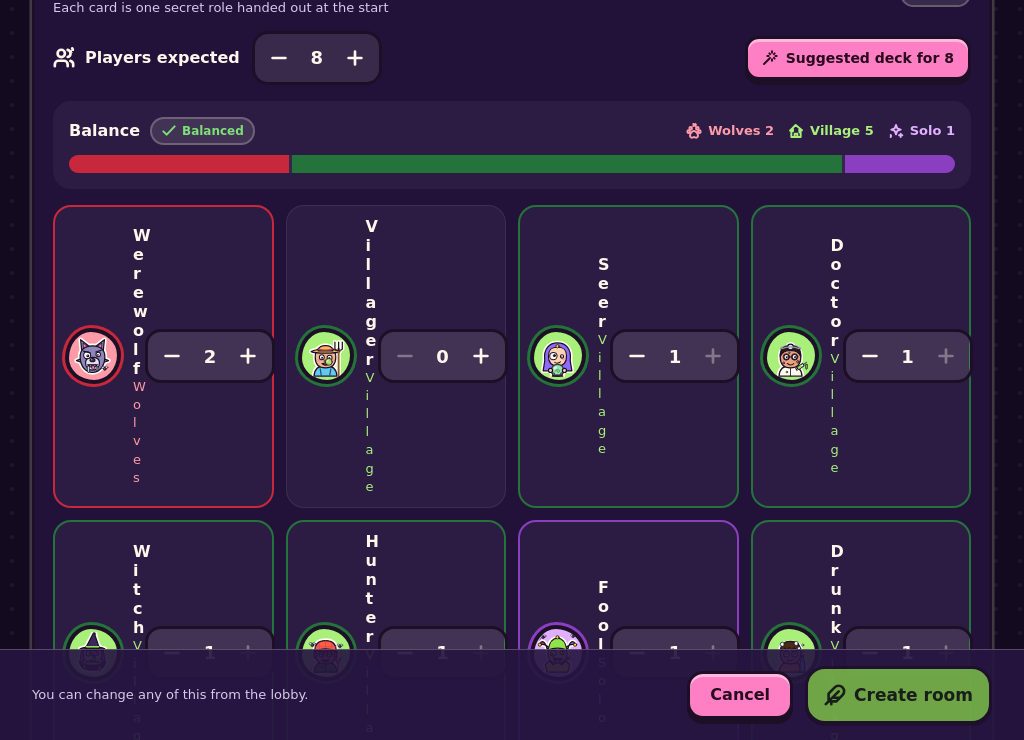
it: RoomSetupView › shows the balance verdict for the expected players
(page scrolled)
Expected: the element with class "setup-balance-title" shows "Balanced", [182,124,244,138]
Click the button named "Fewer Werewolf": (172, 356) [150,334,194,378]
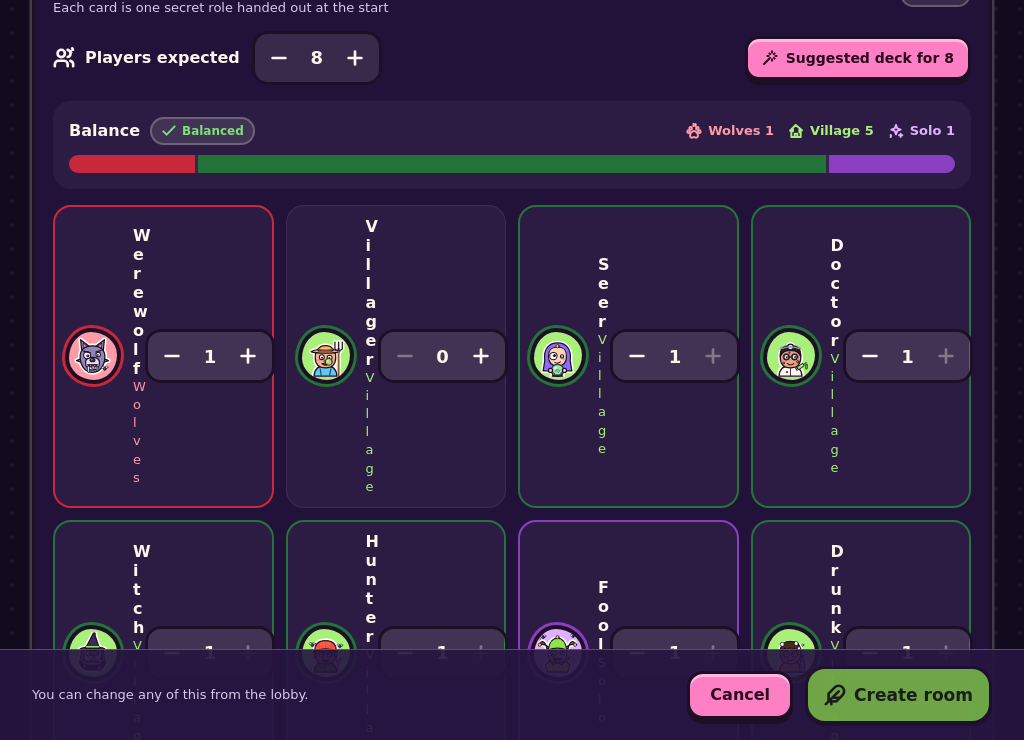
Click the button named "Fewer Werewolf": (172, 356) [150,334,194,378]
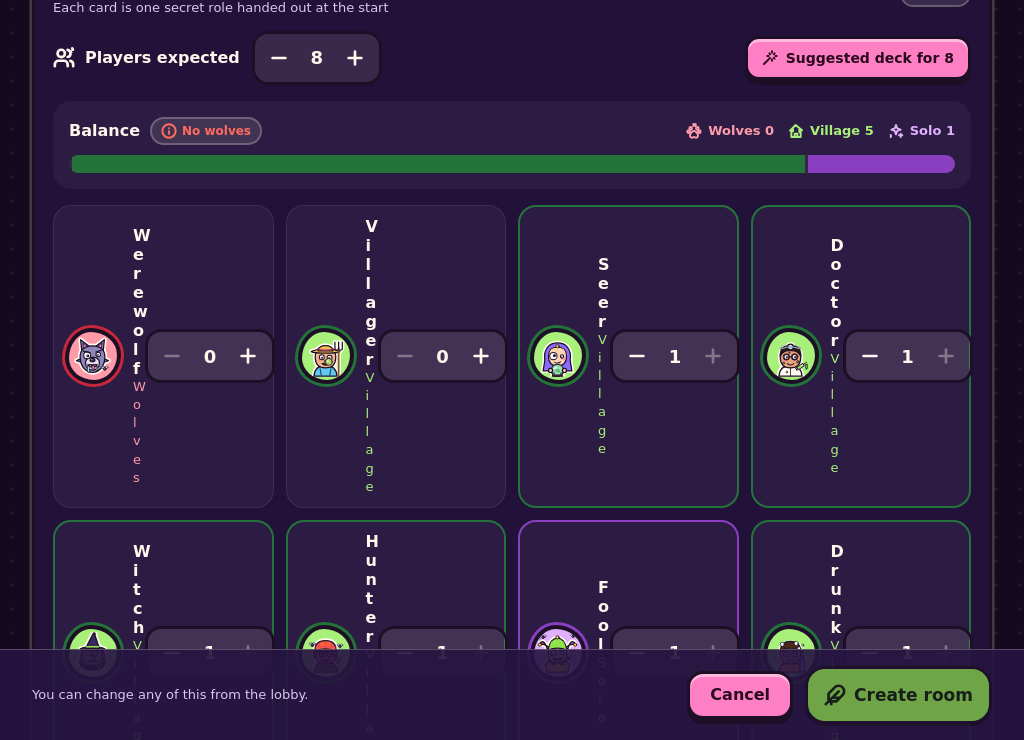
Now the element with class "setup-balance-title" shows "No wolves", box [182,124,251,138]
Click the button named "More Werewolf": (248, 356) [226,334,270,378]
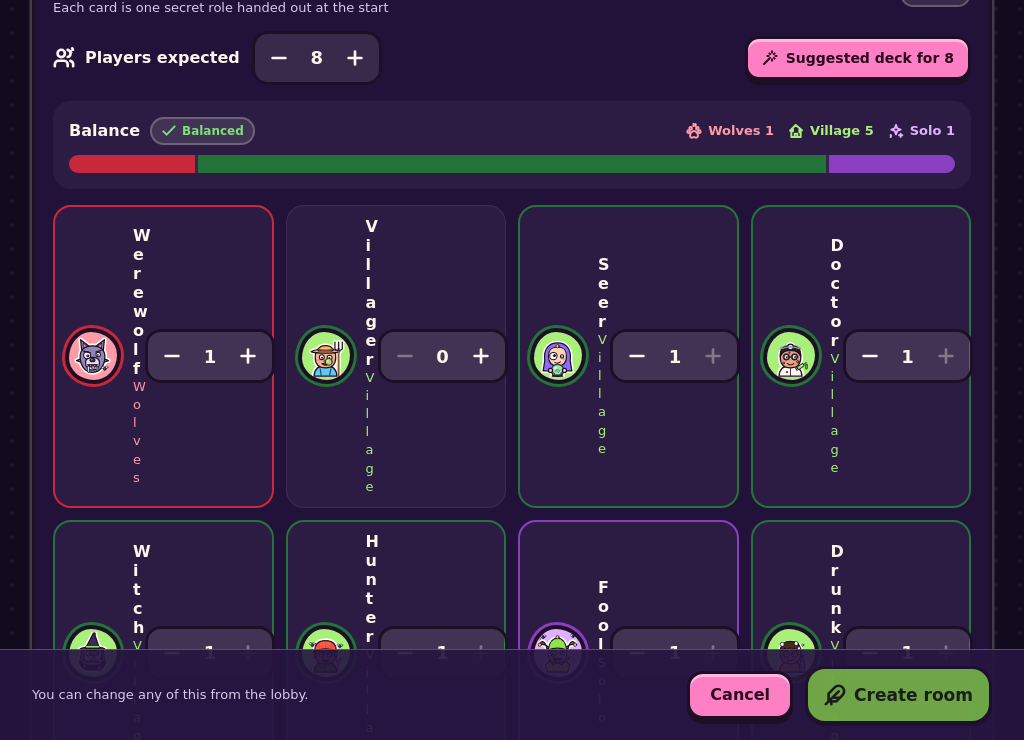
Click the button named "More Werewolf": (248, 356) [226,334,270,378]
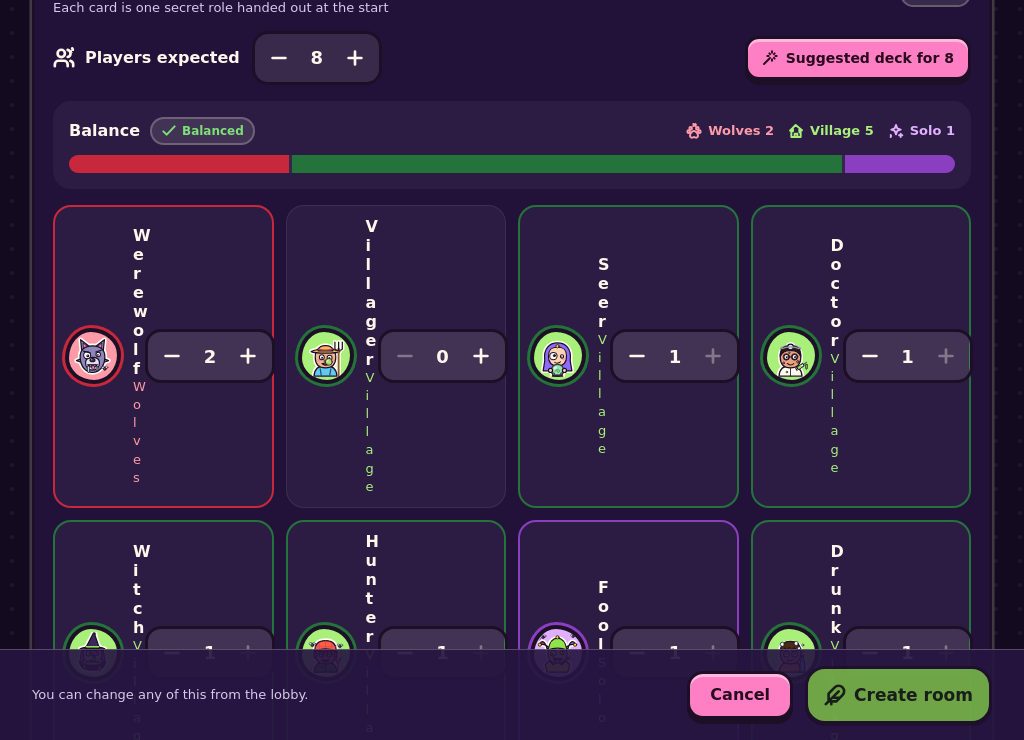
Click the button named "More Werewolf": (248, 356) [226,334,270,378]
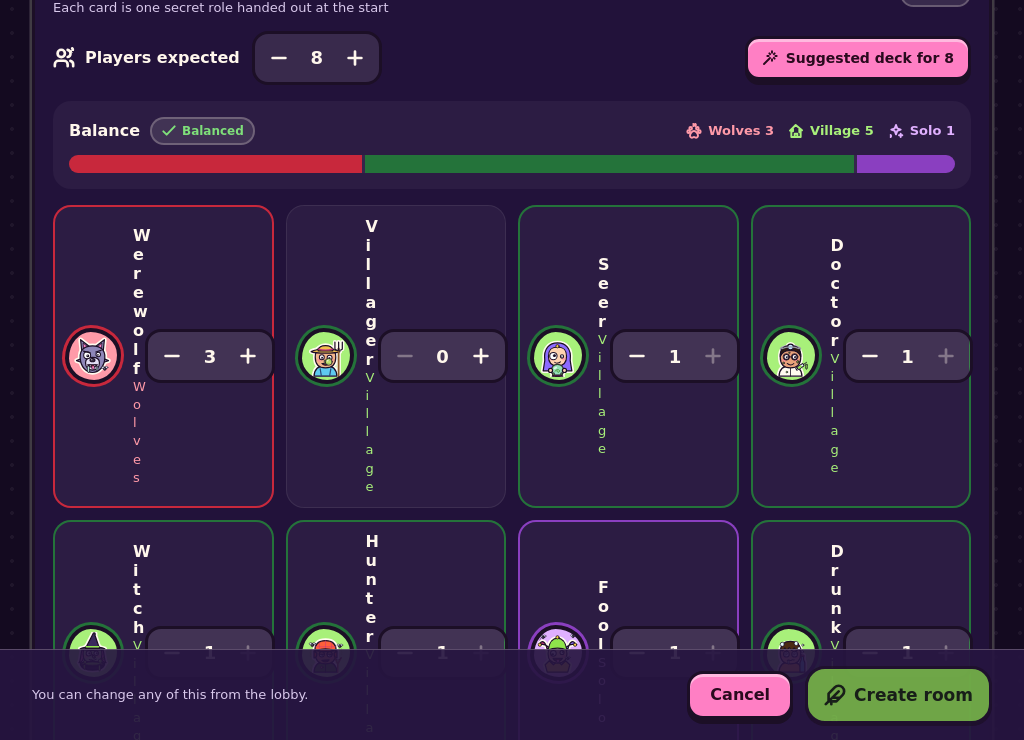
Click the button named "More Werewolf": (248, 356) [226,334,270,378]
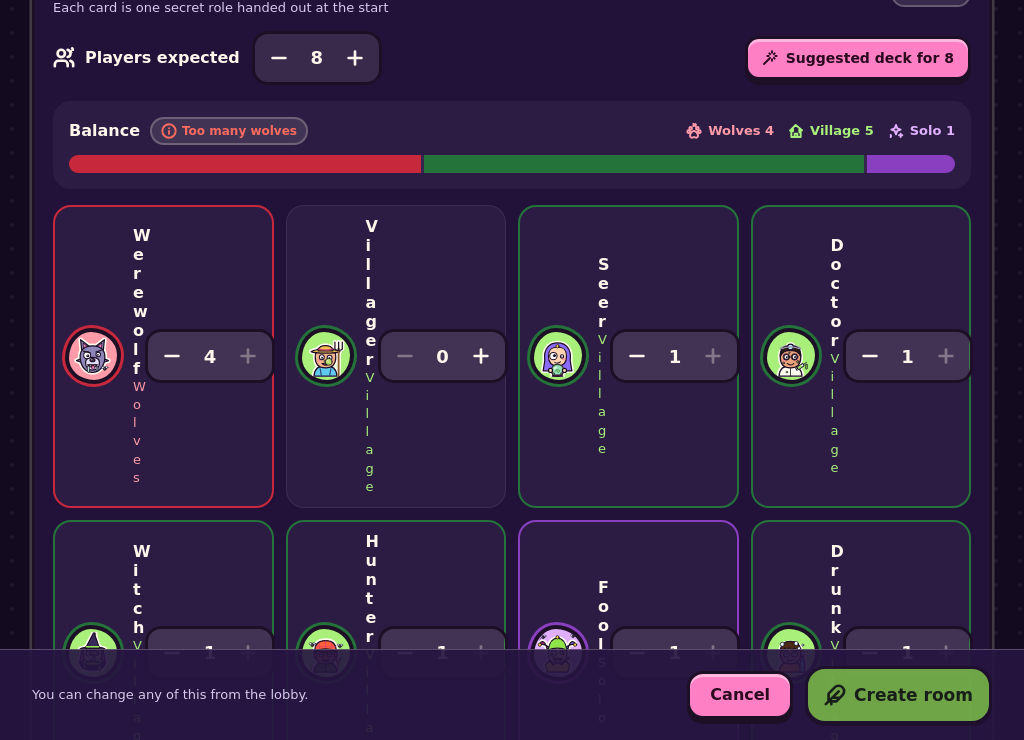
Now the element with class "setup-balance-title" shows "Too many wolves", box [182,124,297,138]
